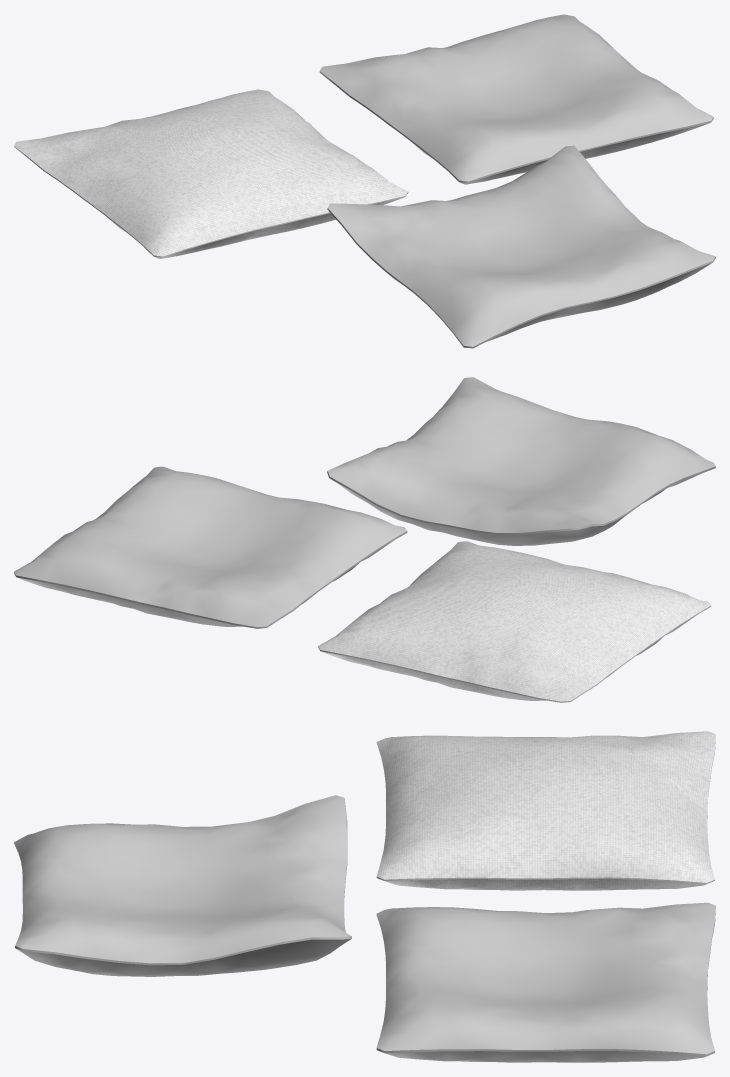
The picture shows the model from 3 angles, top to bottom: view 1: azimuth 30°, elevation 25°; view 2: azimuth 150°, elevation 25°; view 3: azimuth 270°, elevation 25°; orthographic projection. The views are drawn at different scales.
Parts seen in each view (by area): view 1: Pillow3, Pillow1, Pillow2; view 2: Pillow1, Pillow3, Pillow2; view 3: Pillow1, Pillow2, Pillow3.
Part boxes in pixels (x1,y1,x2,y2): Pillow3: (327,145,715,348); Pillow1: (14,89,408,258); Pillow2: (319,14,713,184); Pillow1: (318,541,711,702); Pillow3: (327,377,715,545); Pillow2: (14,466,407,628); Pillow1: (376,731,715,890); Pillow2: (376,902,715,1062); Pillow3: (14,795,351,976).
Size of the model in its own units: 0.9324 by 0.1154 by 0.8769.
